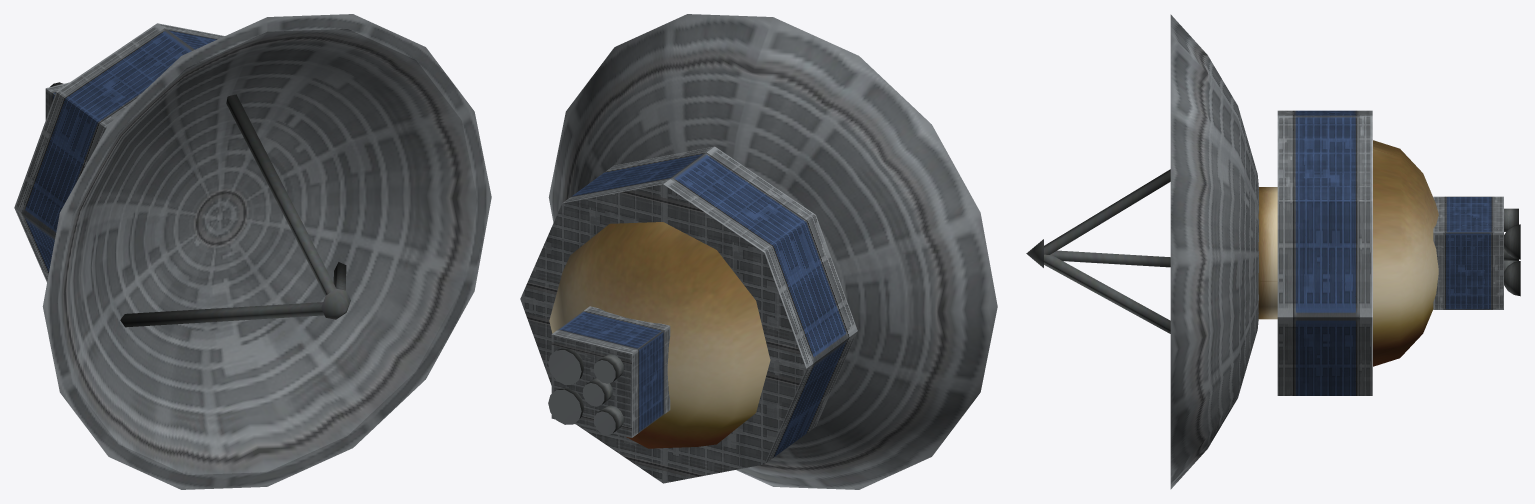
Rendered from Relay1.fbx.
3 renders of one model, left to right at view 1: azimuth 30°, elevation 25°; view 2: azimuth 150°, elevation 25°; view 3: azimuth 270°, elevation 25°, orthographic. The views are drawn at different scales.
Visible parts, largest first — view 1: Relay1; view 2: Relay1; view 3: Relay1.
Boxes of the visible parts, box(x1,y1,x2,y2) form: Relay1: box(14, 14, 491, 489); Relay1: box(520, 14, 997, 489); Relay1: box(1026, 14, 1520, 489).
Bounding box in the file's own units: 201 × 201 × 209.
